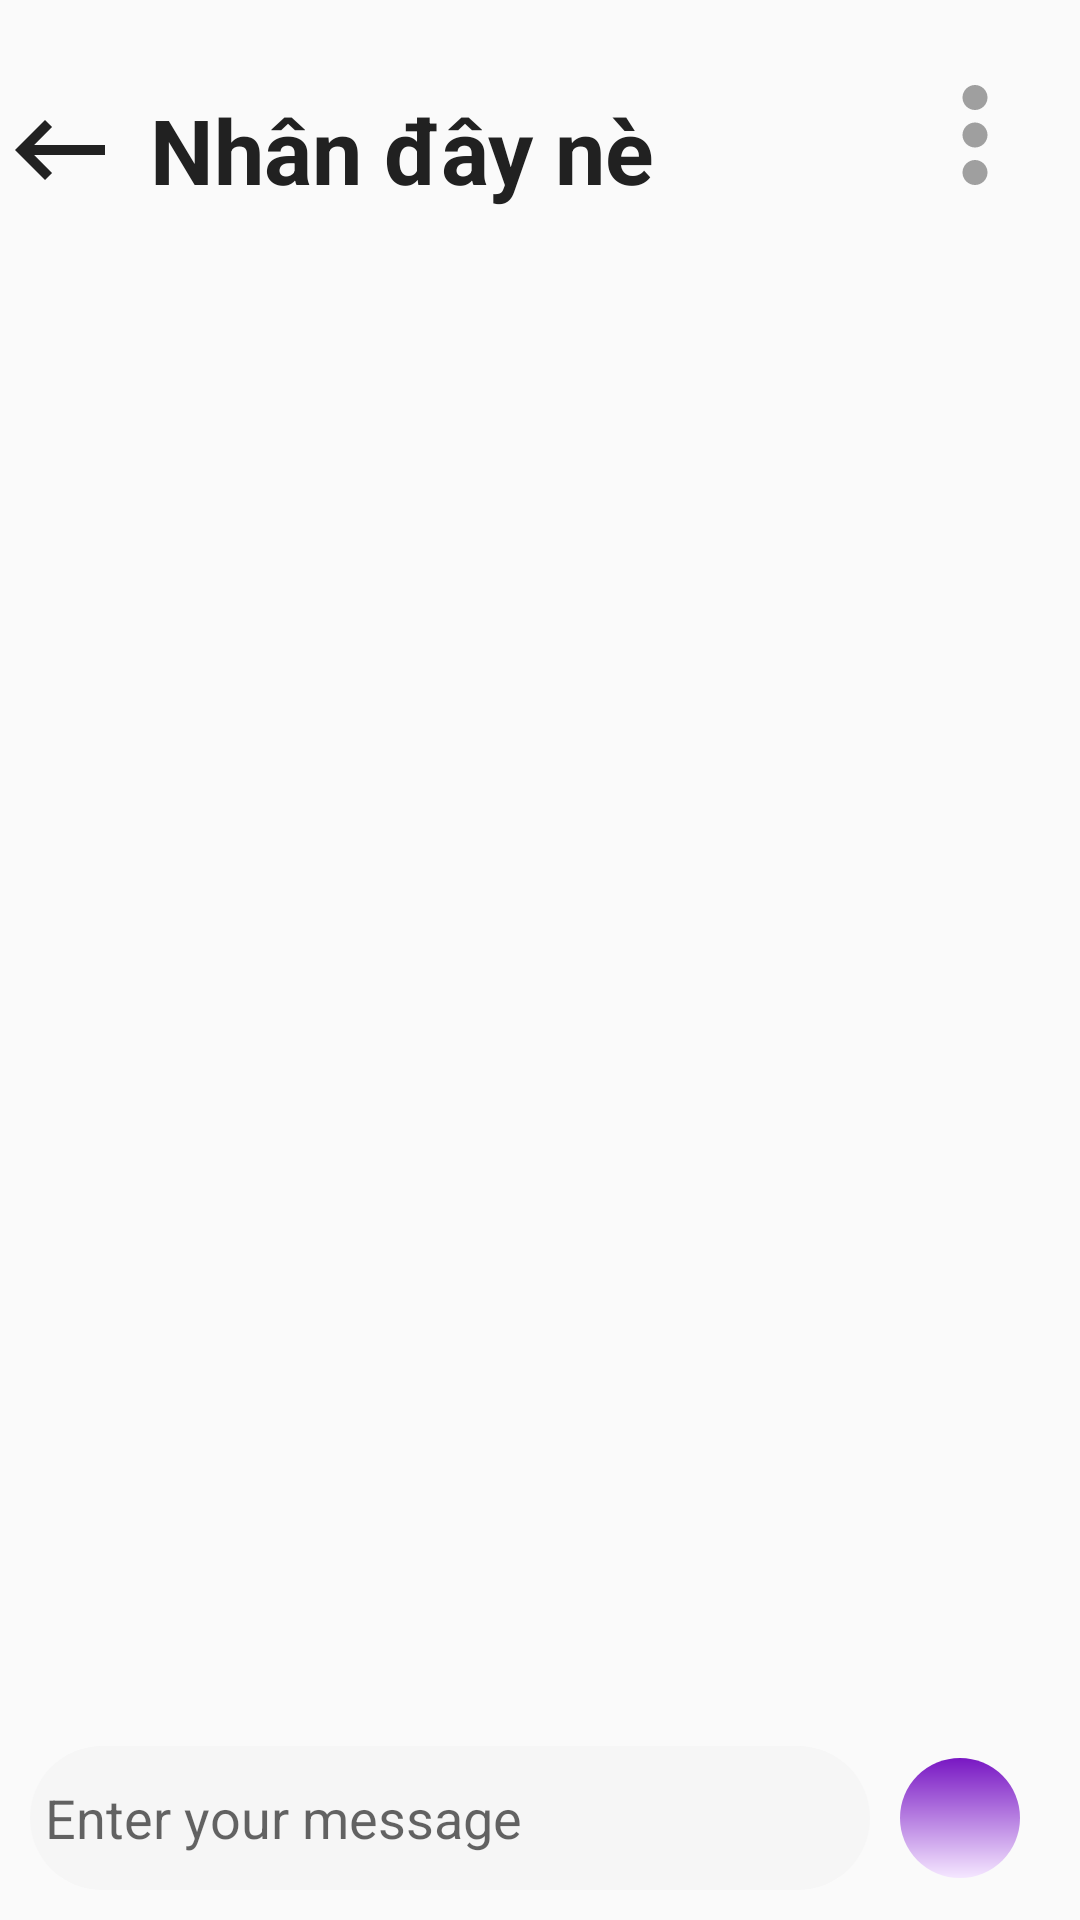

Icons on this 1080 × 1920 Android screen, each with the point to tap as point (x, y):
keyboard backspace: point (60, 150)
more vert: point (975, 135)
